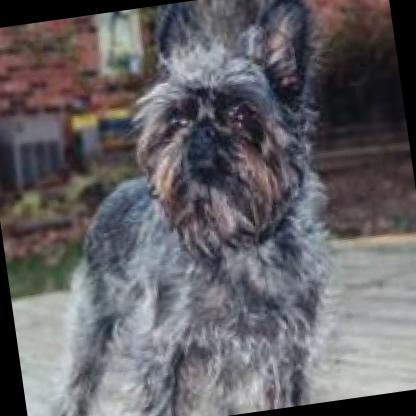affenpinscher: (0, 0, 359, 416)
